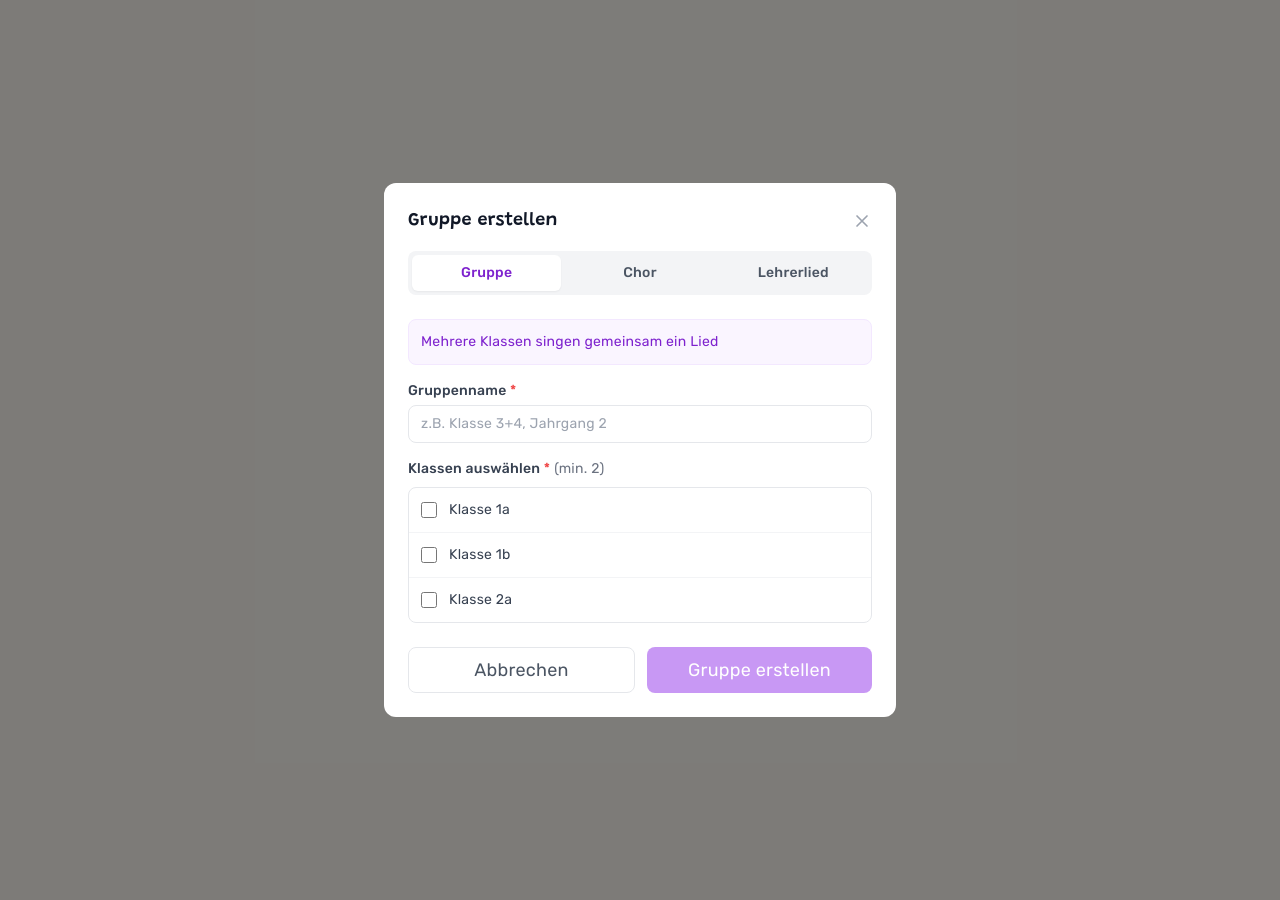
UnifiedAddModal › switches to Lehrerlied tab and shows correct content
This screenshot has width=1280, height=900.
Click Lehrerlied tab
Click the button "Lehrerlied": point(793, 273) [719,255,868,291]
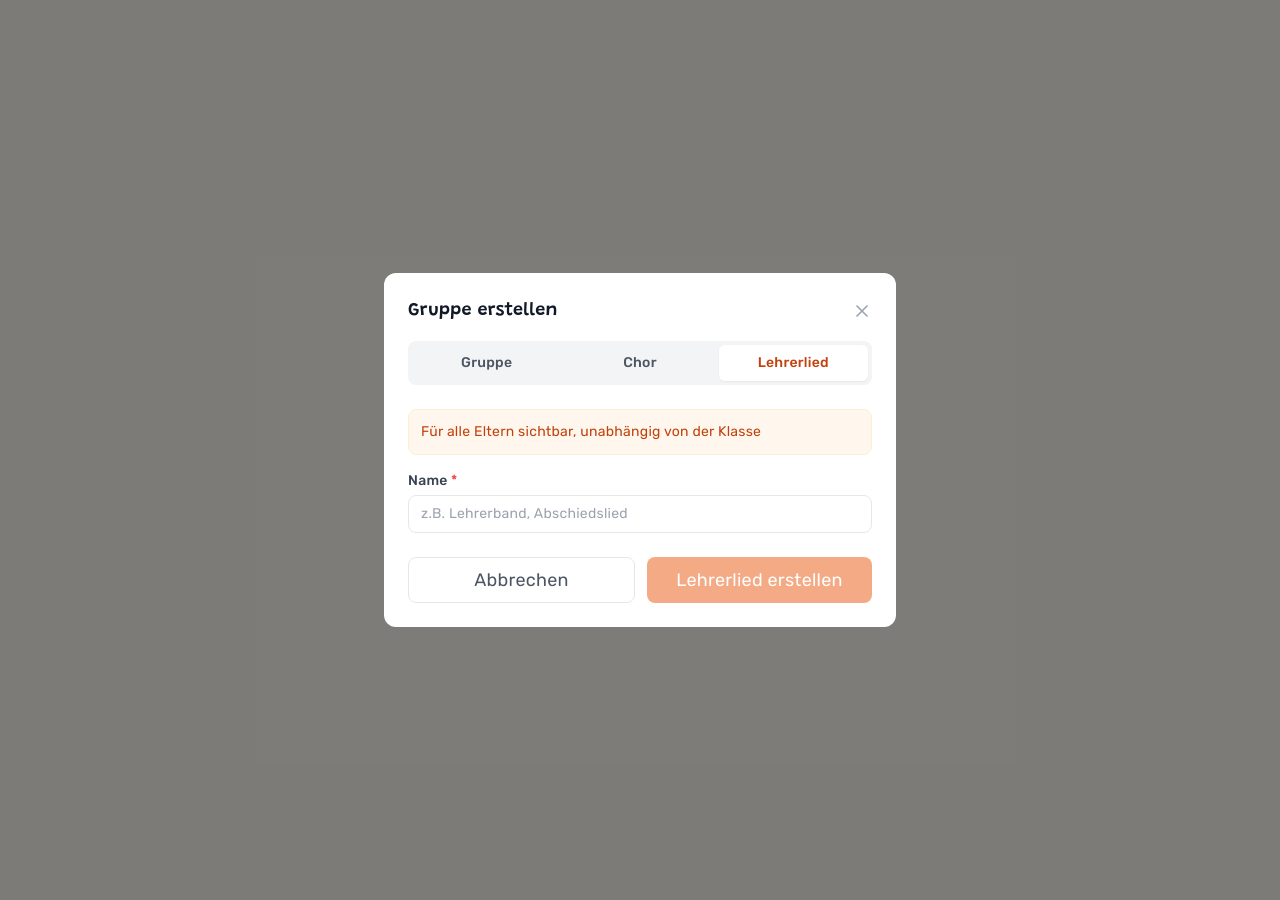
Expected: the button "Lehrerlied erstellen" is shown, [647,557,872,603]
Expected: the text "Klassen auswählen" is gone
